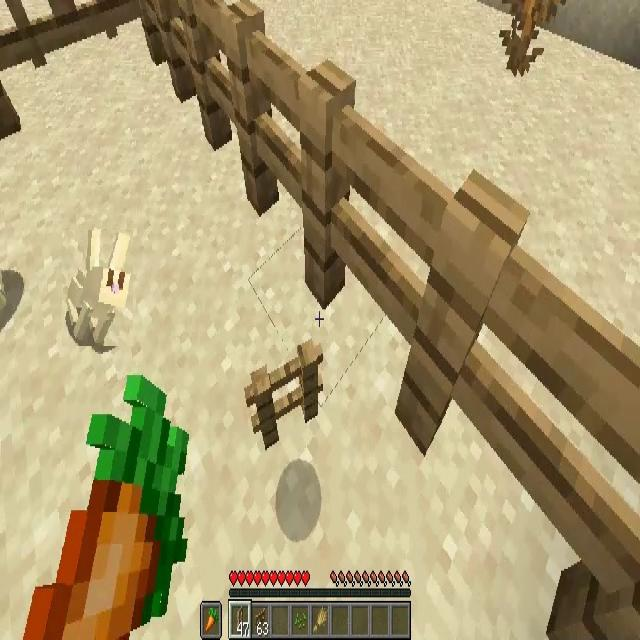rabbit: (62, 230, 133, 346)
